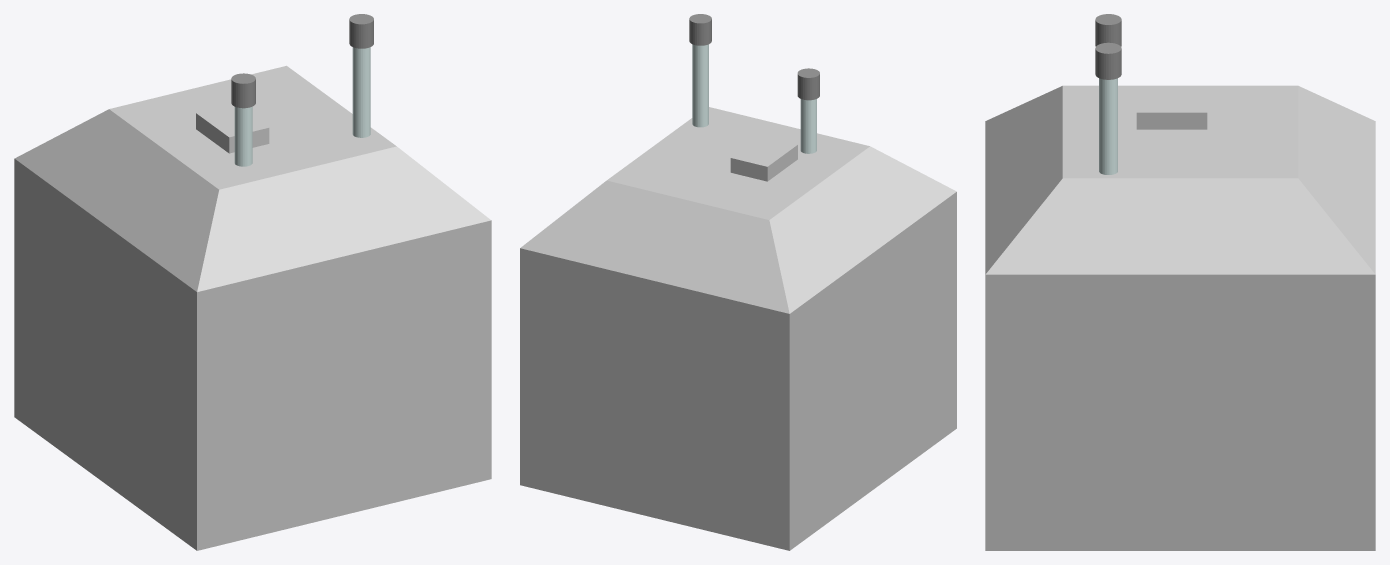
File: Building 1_2.fbx
3 renders of one model, left to right at view 1: azimuth 30°, elevation 25°; view 2: azimuth 150°, elevation 25°; view 3: azimuth 270°, elevation 25°, orthographic. The views are drawn at different scales.
Visible parts, largest first — view 1: Cube, Cylinder, Cylinder.001, Cube.001; view 2: Cube, Cube.001, Cylinder, Cylinder.001; view 3: Cube, Cube.001, Cylinder, Cylinder.001.
Part boxes in pixels (box(x1,y1,x2,y2)): Cube: box(14, 65, 491, 550); Cylinder: box(349, 14, 373, 137); Cylinder.001: box(231, 73, 255, 166); Cube.001: box(196, 104, 269, 153); Cube: box(520, 107, 956, 550); Cube.001: box(730, 135, 797, 181); Cylinder: box(689, 14, 711, 127); Cylinder.001: box(797, 68, 819, 153); Cube: box(985, 85, 1375, 550); Cube.001: box(1136, 91, 1207, 129); Cylinder: box(1095, 42, 1121, 174); Cylinder.001: box(1095, 14, 1121, 46).
Size of the model in its own units: 1467 by 2073 by 1576.
